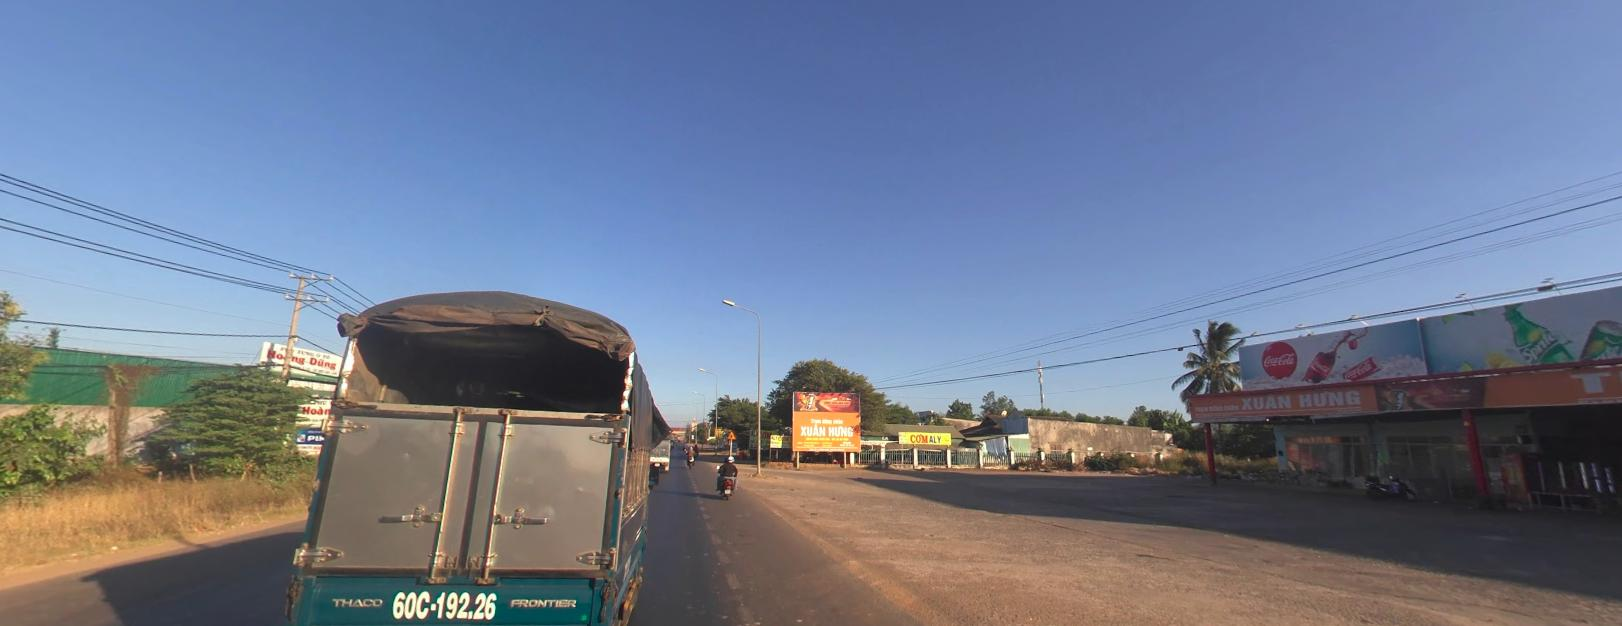Nguy hiem: (726, 428, 735, 439), (727, 429, 735, 438), (726, 429, 735, 437)
